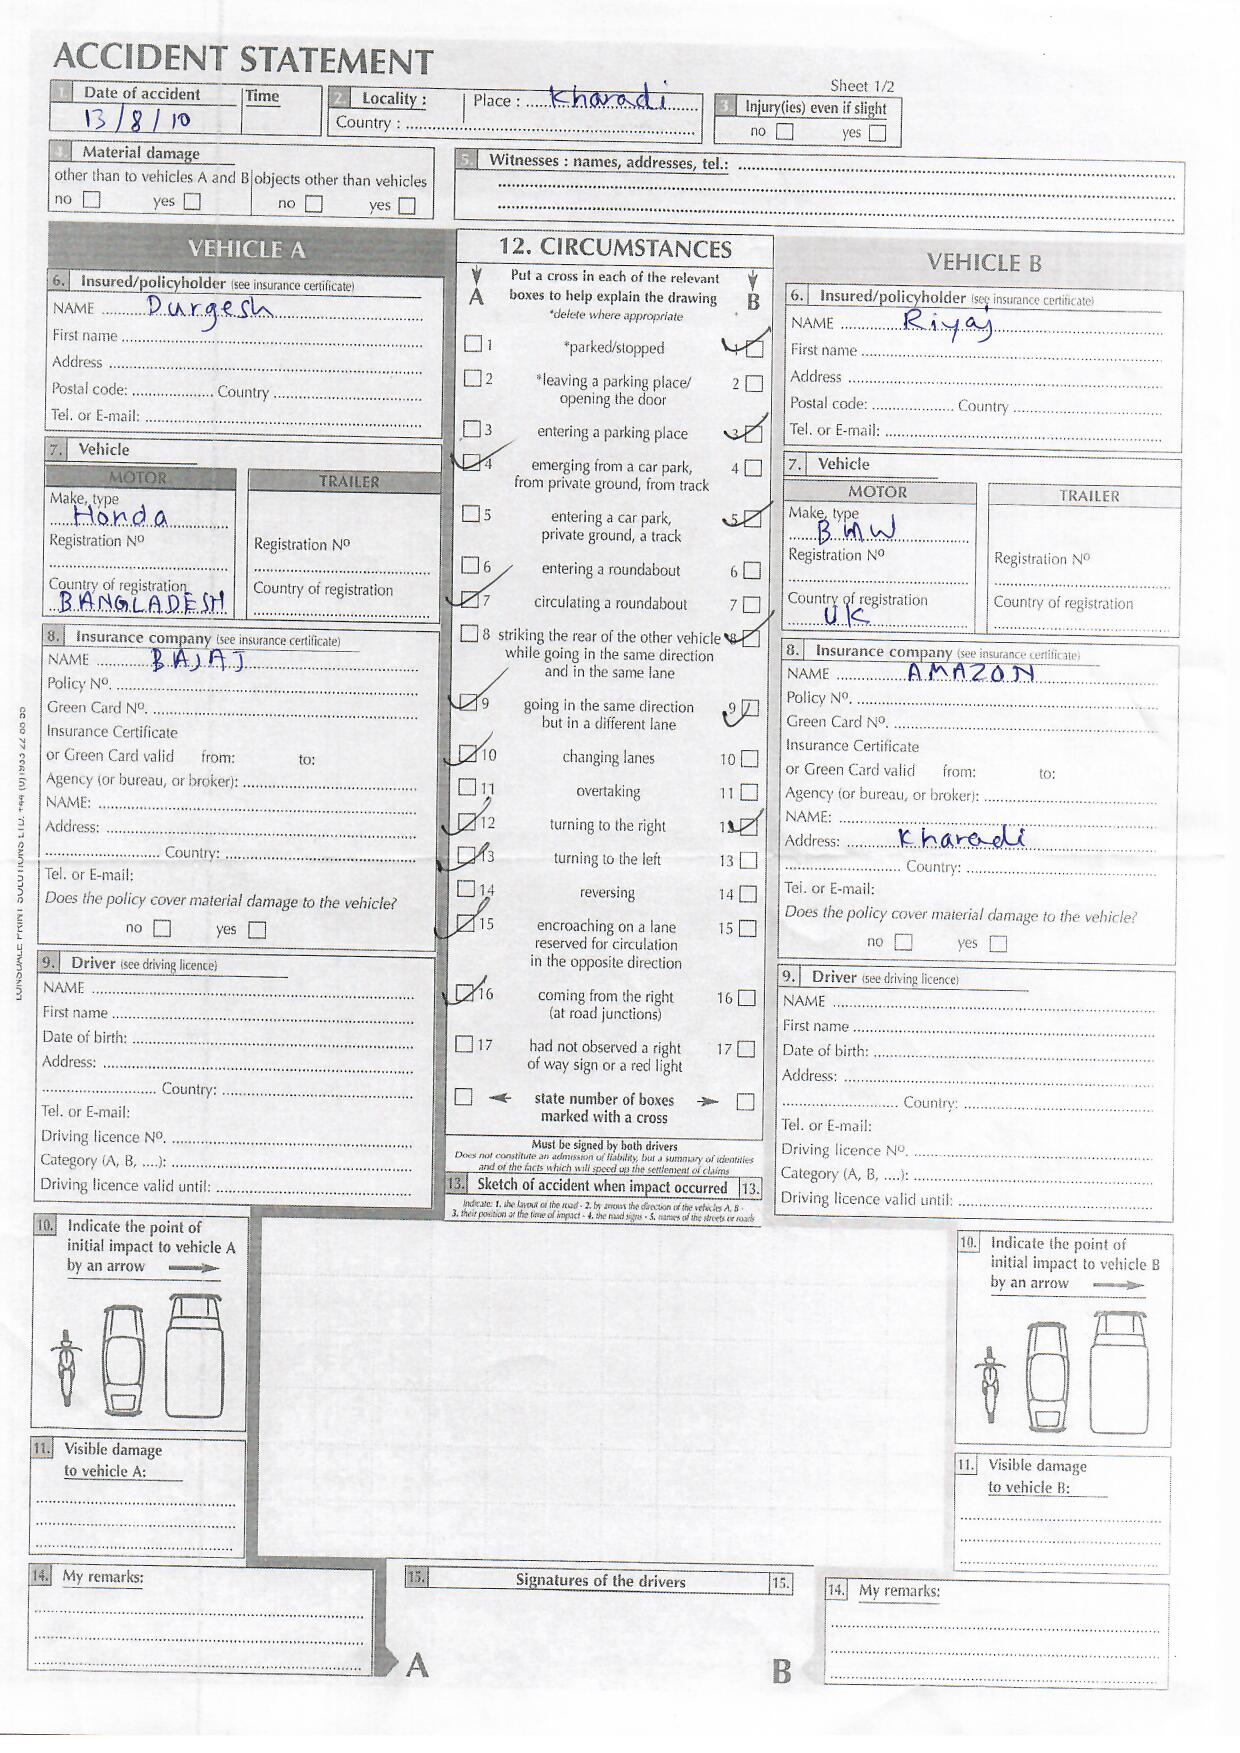a: (450, 843, 480, 868), (451, 909, 478, 936), (454, 741, 480, 766), (739, 336, 768, 360), (739, 421, 765, 447), (739, 507, 765, 532), (738, 625, 762, 651), (735, 815, 760, 839), (458, 588, 480, 613), (739, 697, 761, 723), (460, 450, 482, 477), (454, 981, 476, 1005), (458, 691, 480, 715), (454, 811, 479, 831)
